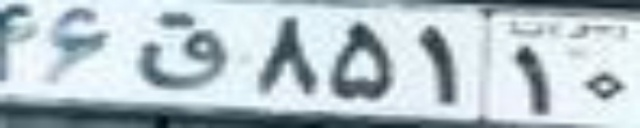0: (581, 71, 625, 100)
1: (415, 24, 458, 104), (508, 45, 553, 114)
4: (0, 3, 37, 84)
5: (330, 21, 398, 101)
6: (45, 7, 108, 85)
8: (253, 15, 320, 95)
ghaf: (133, 10, 227, 90)
